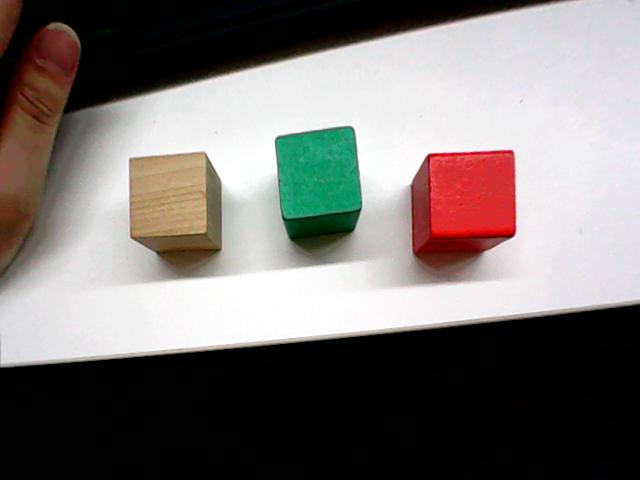green_box: (271, 122, 365, 242)
raw_box: (124, 147, 224, 255)
red_box: (407, 144, 520, 258)
